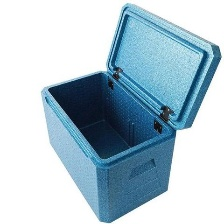foam_box: (38, 0, 223, 224)
